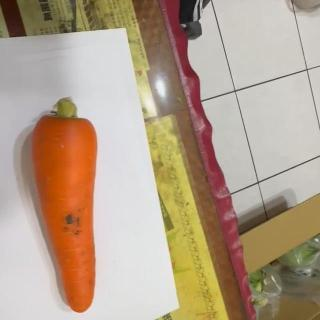carrot: (29, 95, 103, 313)
